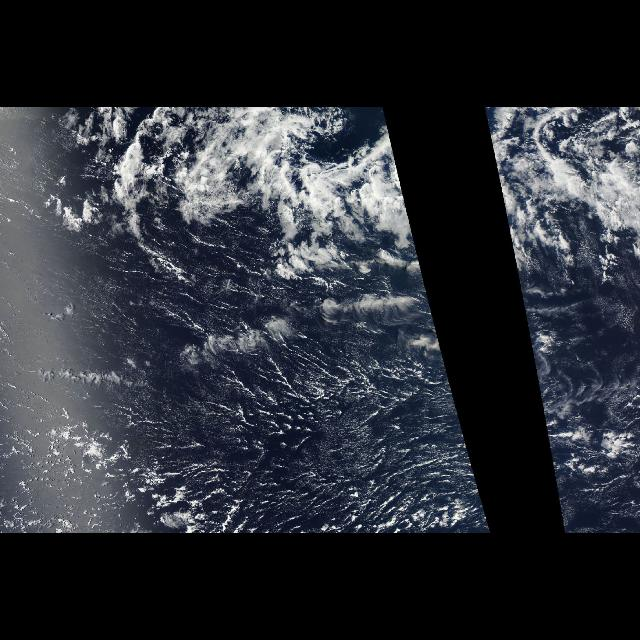Gravel: (197, 366, 375, 479)
Sugar: (16, 220, 492, 532)
